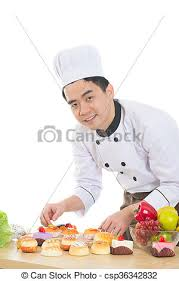asian_male: (59, 73, 115, 132)
